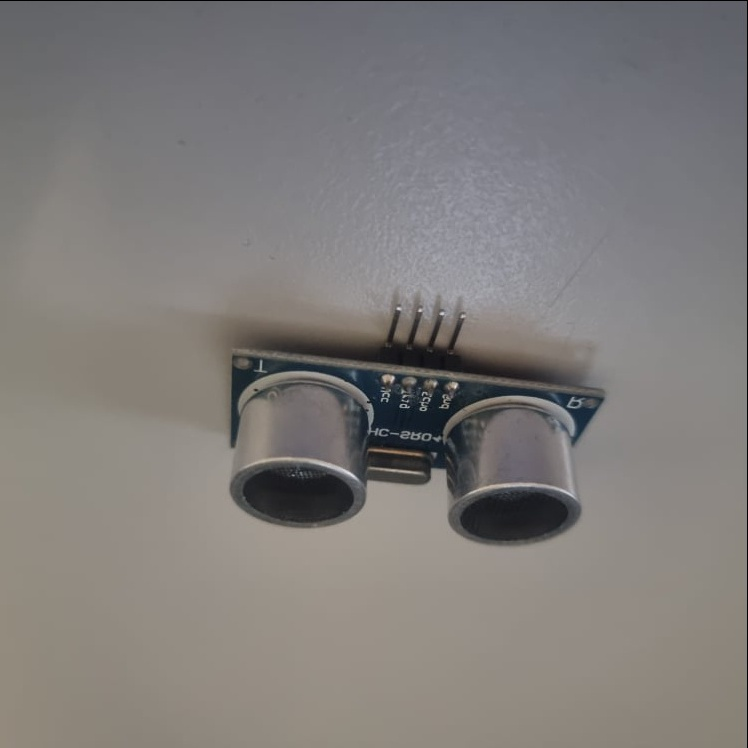SENSOR: (230, 307, 606, 543)
